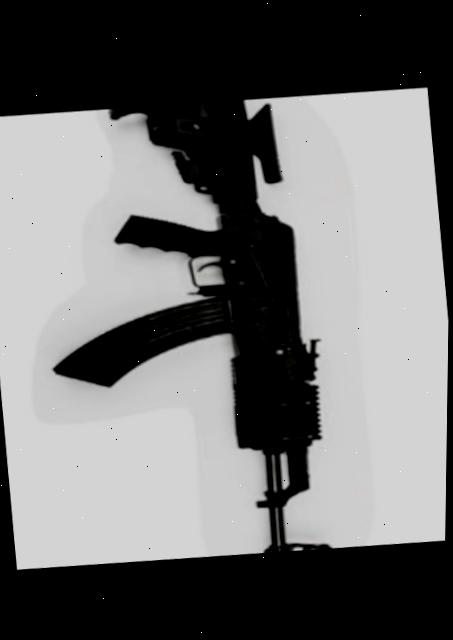rifle: (24, 85, 345, 574)
